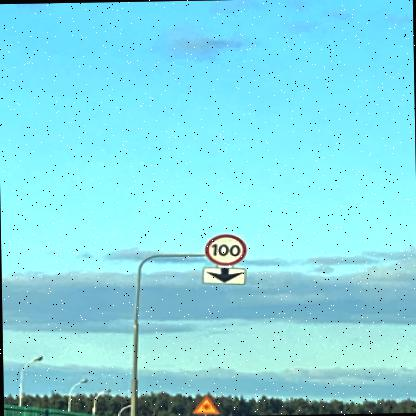speedlimit: (201, 230, 244, 264)
